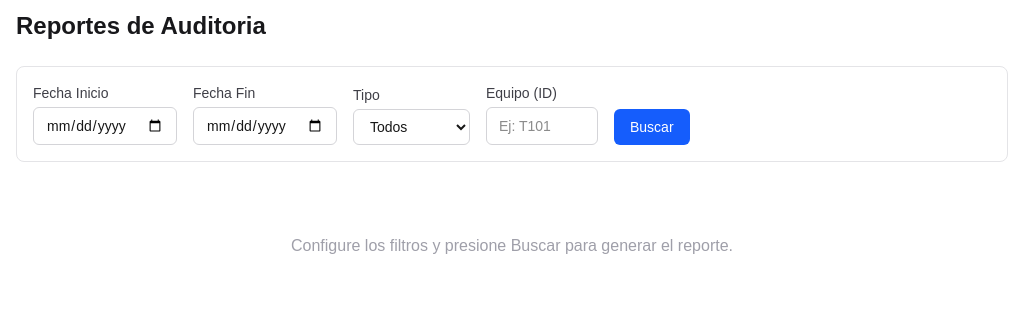
Test: ReportesPage › surfaces error on search failure
Click the button "Buscar" at (652, 127), box top-left (614, 109), bottom-right (690, 145)
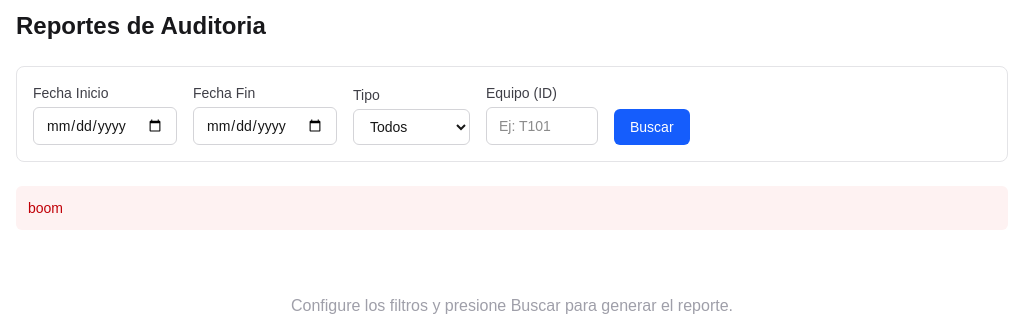
Result: the text "boom" is shown at top-left (16, 186), bottom-right (1008, 230)
